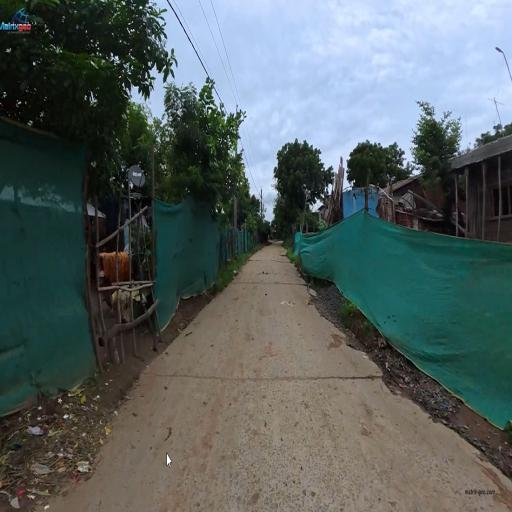longitudinal_crack: (164, 359, 363, 414)
